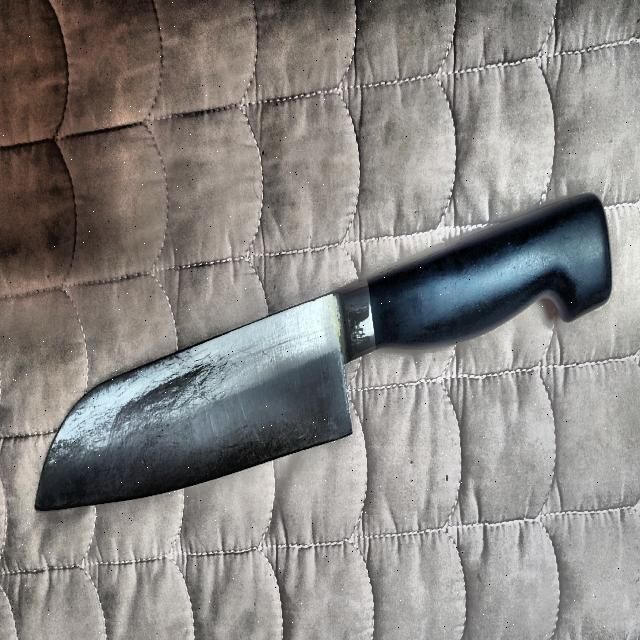knife: (38, 190, 614, 509)
